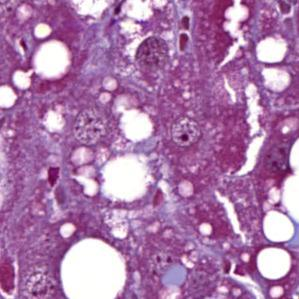steatosis: (257, 244, 294, 283)
